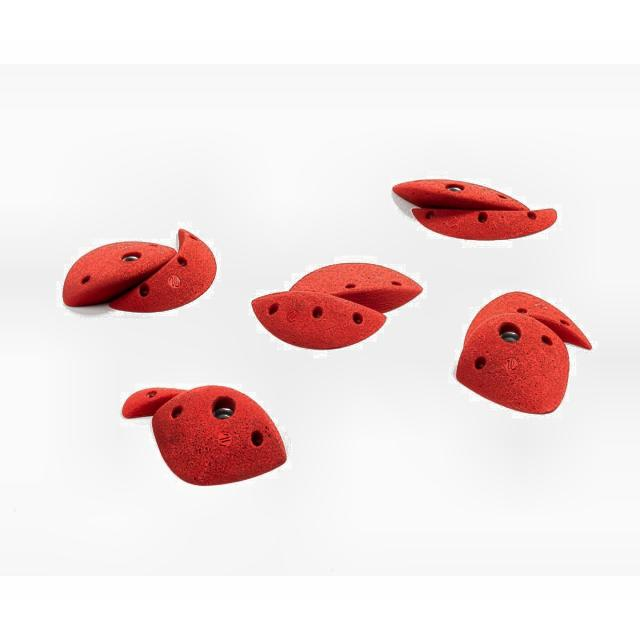Hold: (458, 294, 606, 416), (127, 386, 290, 482), (254, 262, 422, 342), (65, 226, 217, 314), (391, 176, 565, 244)
